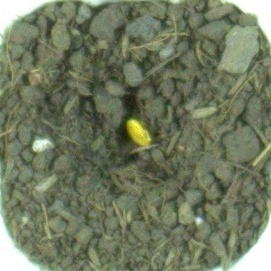chilli seed: (125, 116, 153, 147)
